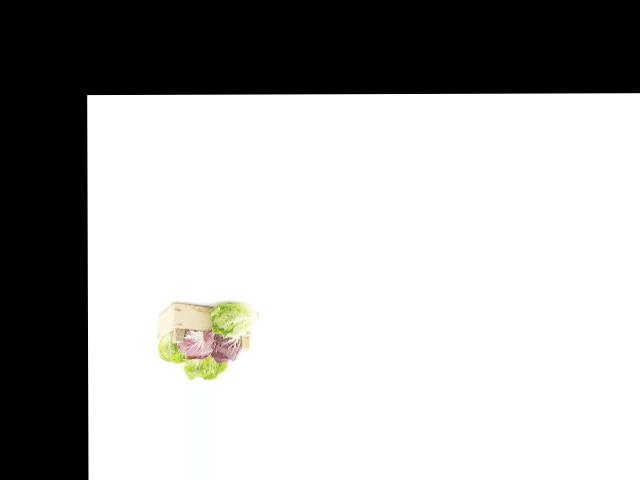lettuce: (183, 350, 227, 380)
